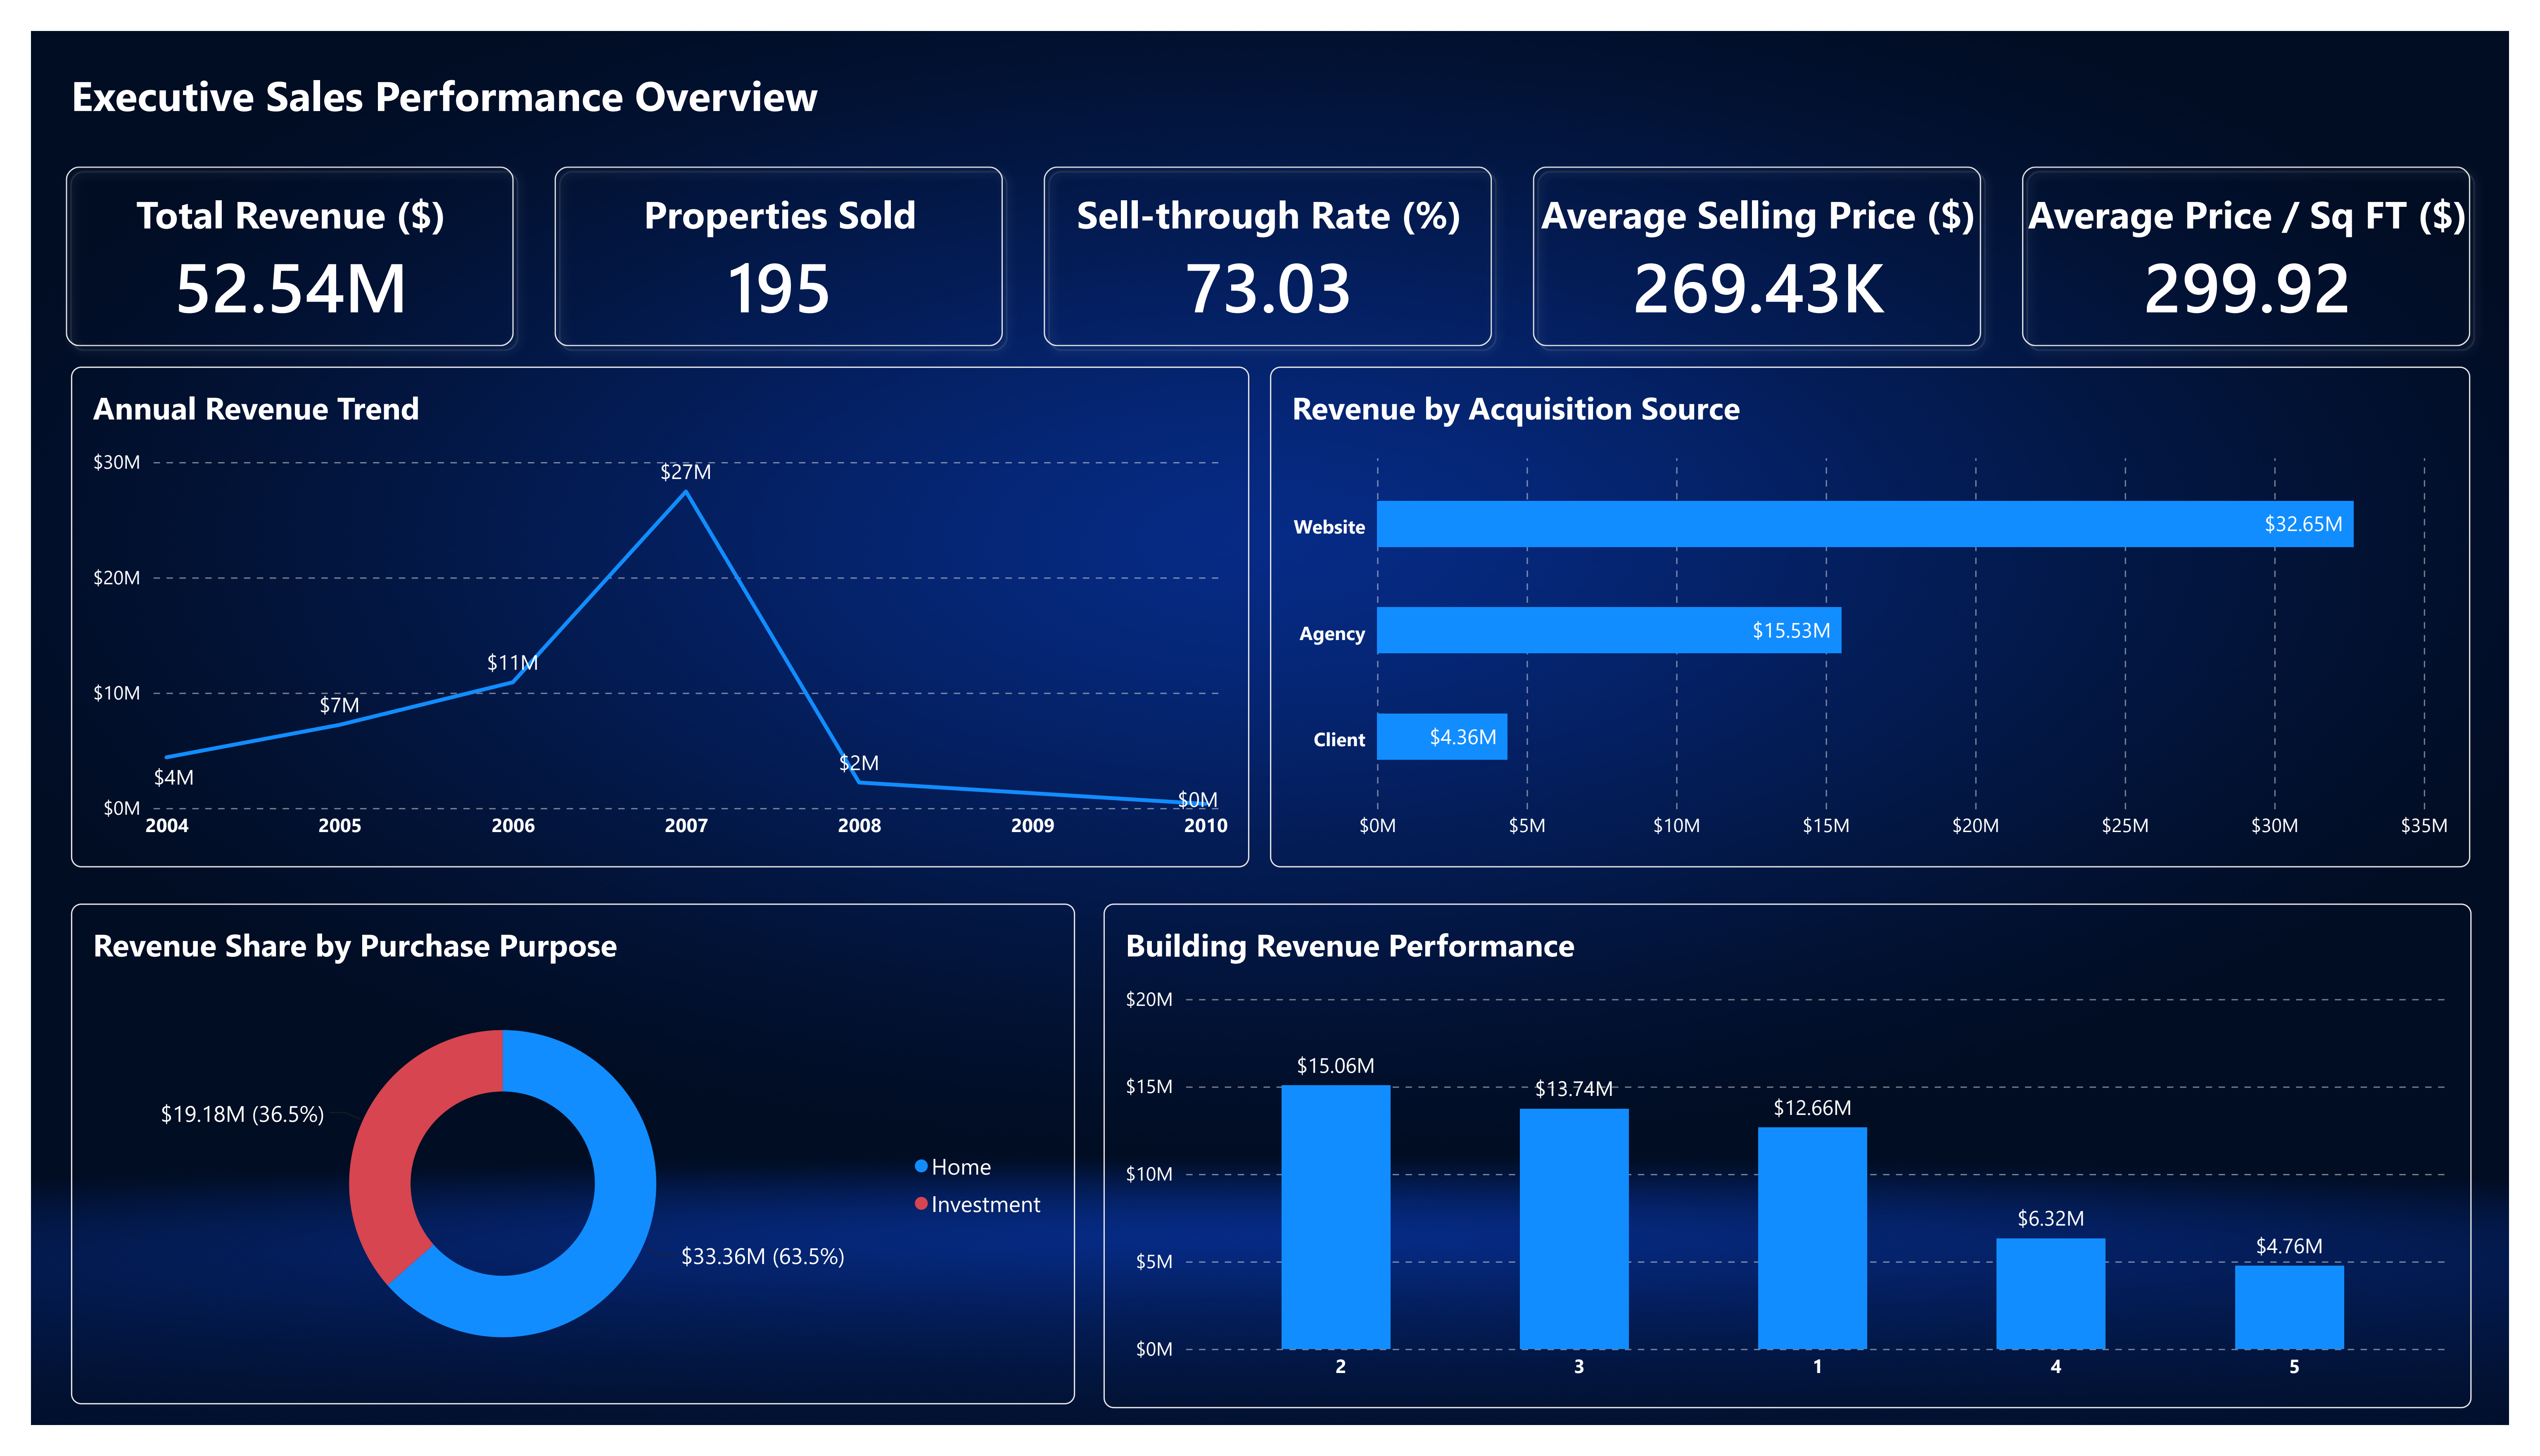

Layout of this report page (visuals, bound fields, positions):
{"tool":"powerbi","page":{"name":"Executive Sales Performance Overview","canvas":[1920,1080],"ordinal":0},"visuals":[{"type":"cardVisual","fields":{"Data":["Sum(real_estate_data vw_sales_kpis.total_revenue)","Sum(real_estate_data vw_sales_kpis.properties_sold)","Sum(real_estate_data vw_sales_kpis.sell_through_rate)","Sum(real_estate_data vw_sales_kpis.average_selling_price)","Sum(real_estate_data vw_sales_kpis.average_price_per_sq_ft)"]},"box":[11.1,88.9,1897.8,171.1],"z":0},{"type":"lineChart","title":"Annual Revenue Trend","fields":{"Category":["real_estate_data vw_yearly_sales.sale_year"],"Y":["Sum(real_estate_data vw_yearly_sales.total_revenue)"]},"box":[31.1,260,912.5,387.5],"z":1000},{"type":"clusteredBarChart","title":"Revenue by Acquisition Source","fields":{"Category":["real_estate_data vw_customer_segments.acquisition_source"],"Y":["Sum(real_estate_data vw_customer_segments.total_revenue)"]},"box":[960,260,930,388.3],"z":2000},{"type":"donutChart","title":"Revenue Share by Purchase Purpose","fields":{"Category":["real_estate_data vw_customer_segments.purpose"],"Y":["Sum(real_estate_data vw_customer_segments.total_revenue)"]},"box":[31.1,675.6,777.8,388.9],"z":3000},{"type":"clusteredColumnChart","title":"Building Revenue Performance","fields":{"Category":["real_estate_data vw_building_performance.building_id"],"Y":["Sum(real_estate_data vw_building_performance.total_revenue)"]},"box":[831.1,675.6,1060,391.1],"z":4000},{"type":"textbox","box":[31.1,26.7,1860,62.2],"z":5000}]}

Visuals, with their boxes on the page's 1920x1080 design canvas (x1, y1, x2, y2). These are canvas units, not pixel positions in the 2540x1456 screenshot, which may show the page scaled, cropped or inside an application window:
cardVisual - Sum(real_estate_data vw_sales_kpis.total_revenue) x Sum(real_estate_data vw_sales_kpis.properties_sold): (11, 89, 1909, 260)
"Annual Revenue Trend" lineChart: (31, 260, 944, 648)
"Revenue by Acquisition Source" clusteredBarChart: (960, 260, 1890, 648)
"Revenue Share by Purchase Purpose" donutChart: (31, 676, 809, 1064)
"Building Revenue Performance" clusteredColumnChart: (831, 676, 1891, 1067)
textbox: (31, 27, 1891, 89)
